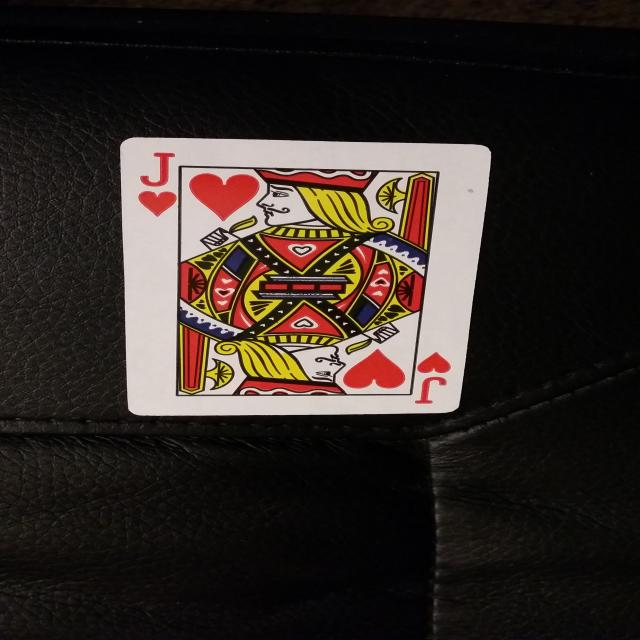Jh: (123, 148, 198, 223), (397, 346, 462, 410)
